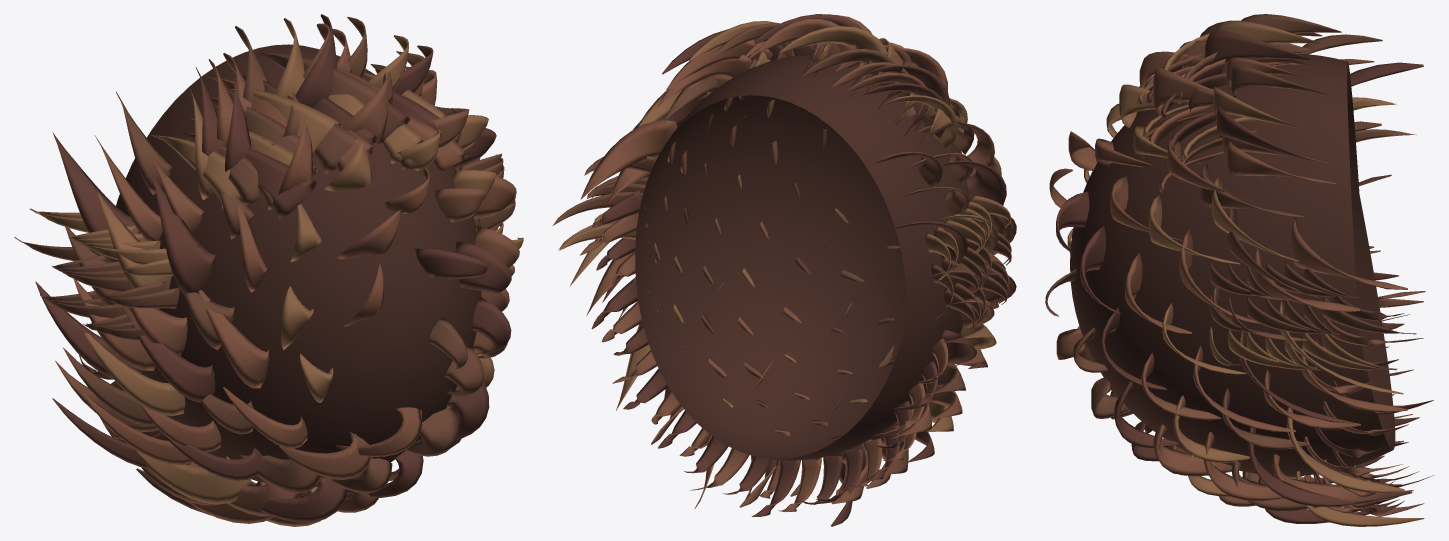
Rendered from Ender_DarkCopper_LayeredHair_V2_NONCANONICAL.glb.
The picture shows the model from 3 angles, left to right: view 1: azimuth 30°, elevation 25°; view 2: azimuth 150°, elevation 25°; view 3: azimuth 270°, elevation 25°; orthographic projection. The views are drawn at different scales.
Parts seen in each view (by area): view 1: Ender_CopperHair_Review_Static; view 2: Ender_CopperHair_Review_Static; view 3: Ender_CopperHair_Review_Static.
Part boxes in pixels (left/top/right/bottom): Ender_CopperHair_Review_Static: left=14, top=14, right=523, bottom=526; Ender_CopperHair_Review_Static: left=553, top=14, right=1016, bottom=526; Ender_CopperHair_Review_Static: left=1045, top=14, right=1433, bottom=526.
Bounding box in the file's own units: 0.2303 × 0.2499 × 0.1844.
